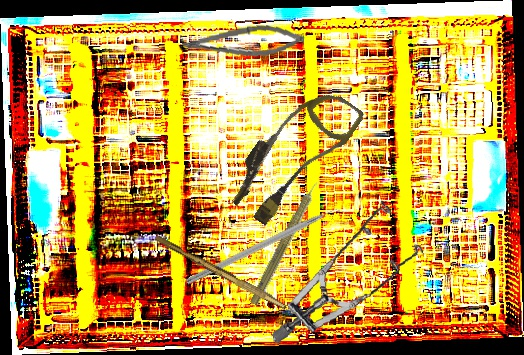Cannula: (220, 72, 367, 237)
Chopper: (184, 200, 353, 295)
Handpiece: (247, 170, 329, 309)
Micro Scissor: (180, 20, 306, 65)
Scalpel Handle: (152, 233, 290, 311)
Speculum: (255, 194, 434, 345)
